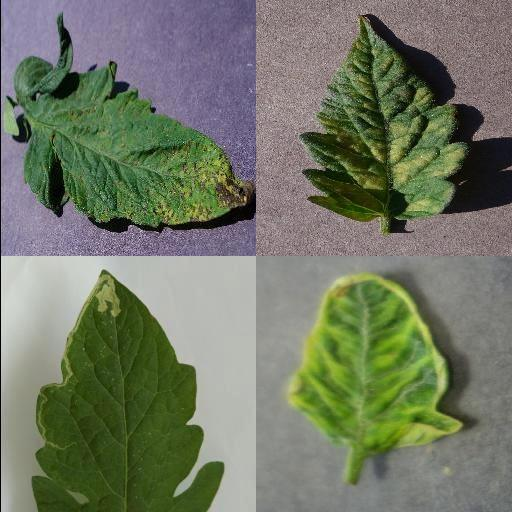Leaf Miner: (30, 268, 224, 512)
Leaf Mold: (299, 11, 471, 219)
Septoria: (23, 60, 256, 228)
Yellow Leaf Curl Virus: (286, 274, 464, 458)
